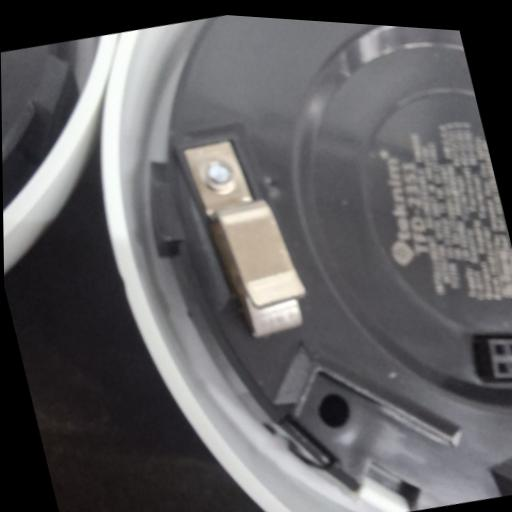yayli: (175, 122, 318, 351)
